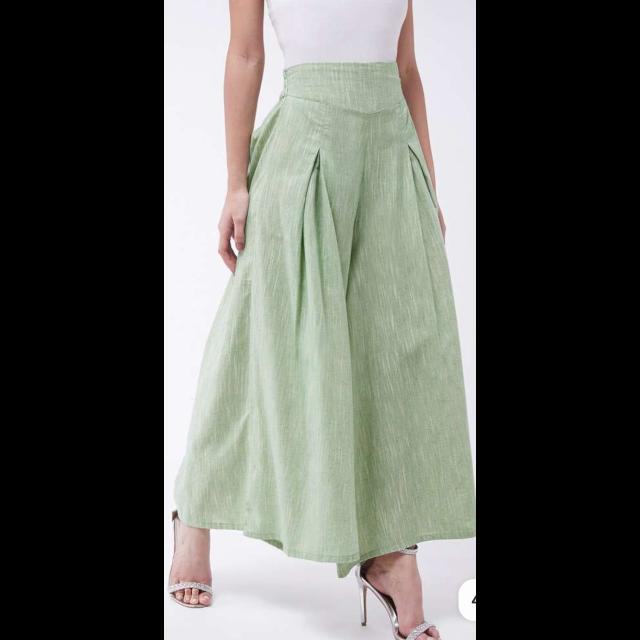bottom: (172, 63, 474, 557)
shoes: (344, 536, 444, 640), (170, 522, 220, 612)
